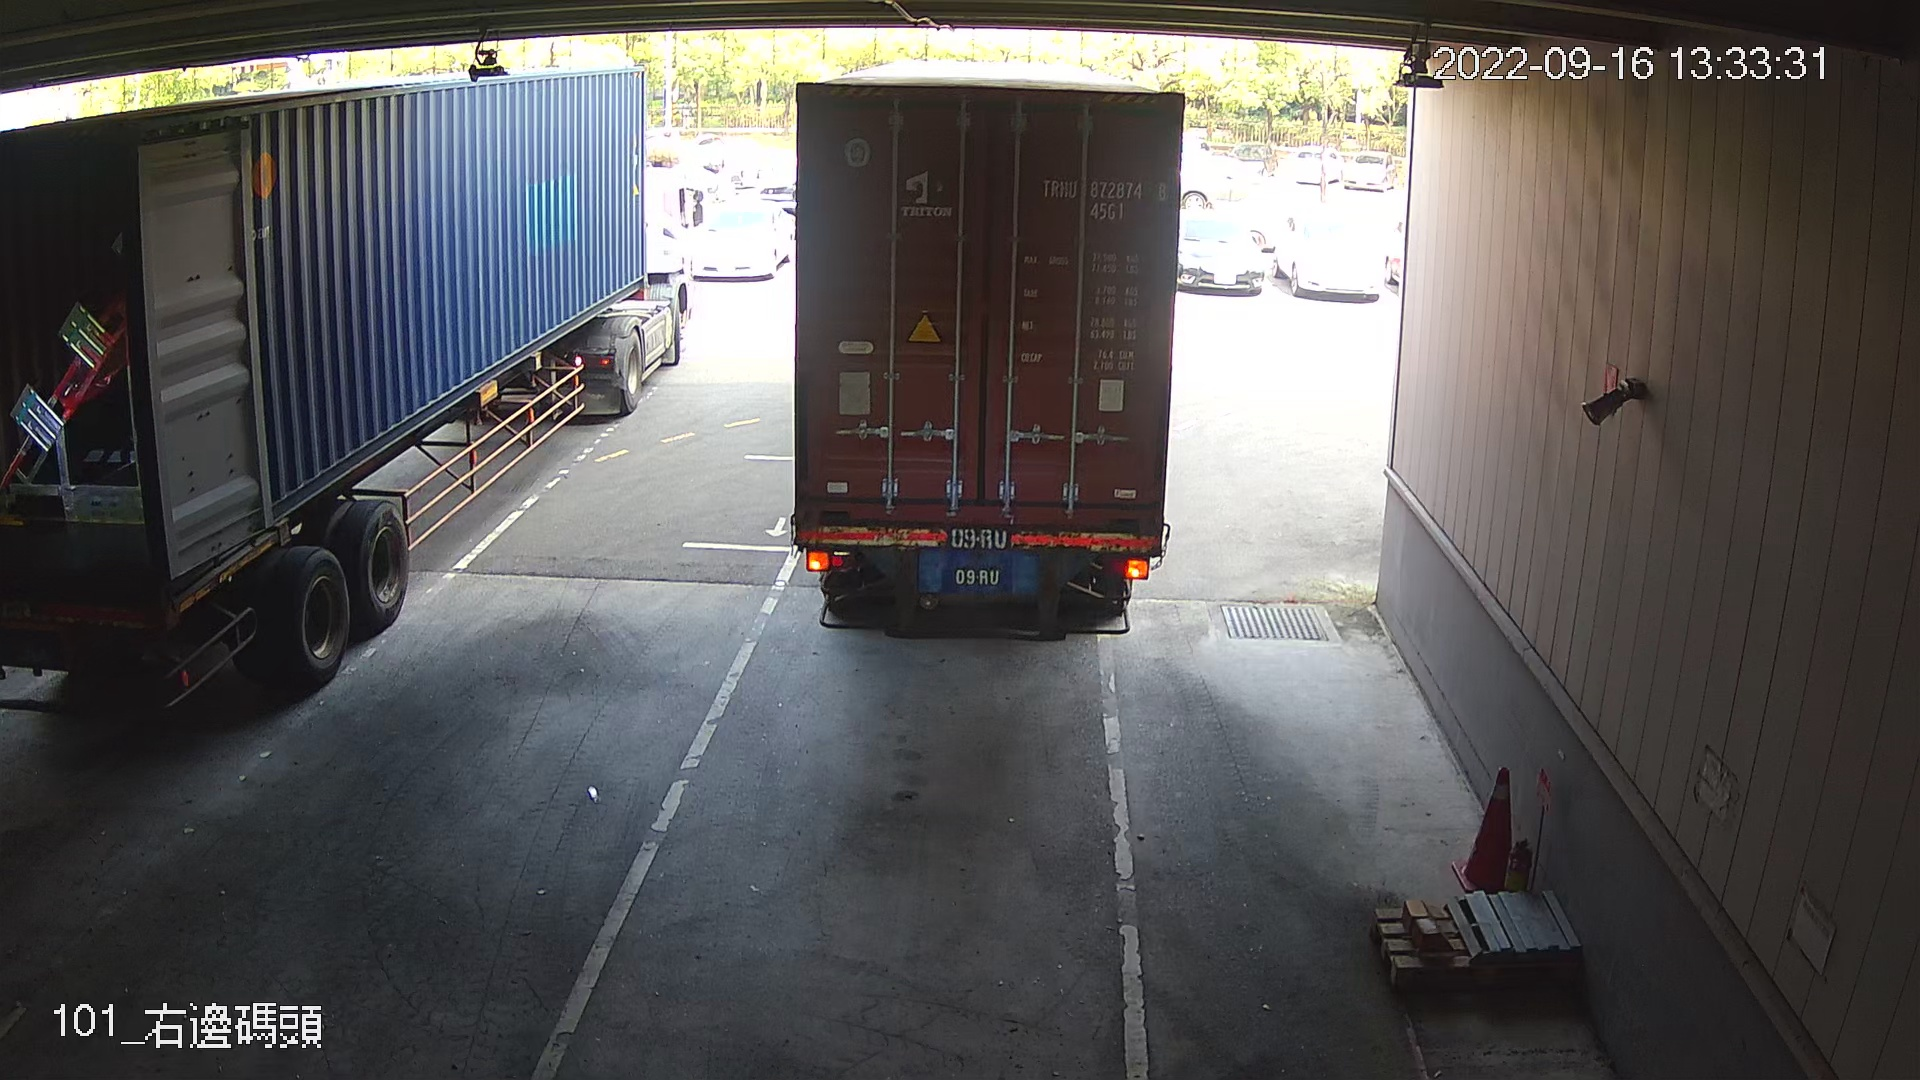container: (1038, 167, 1175, 233)
